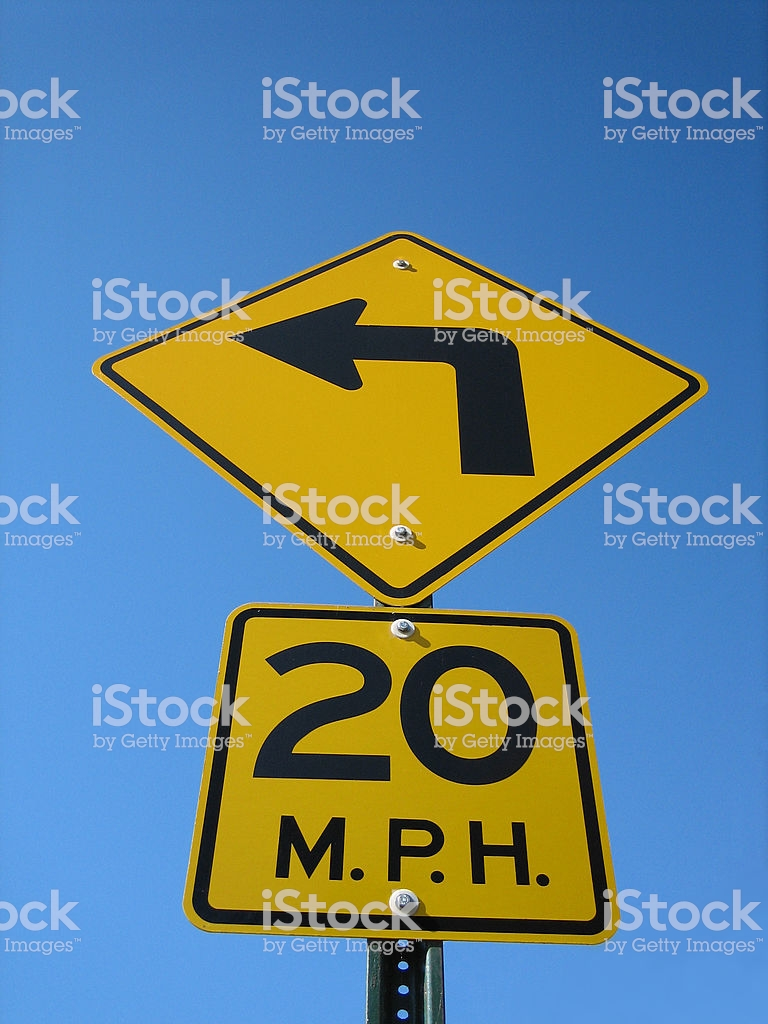left: (83, 224, 714, 613)
